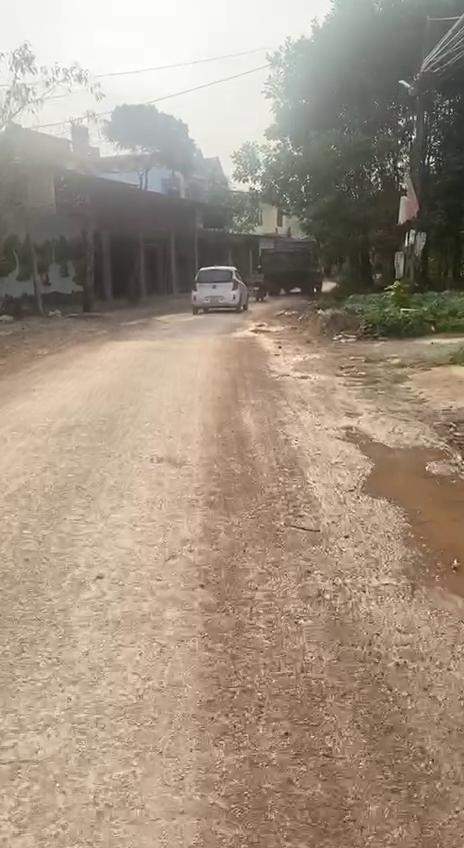pothole: (338, 425, 464, 605)
